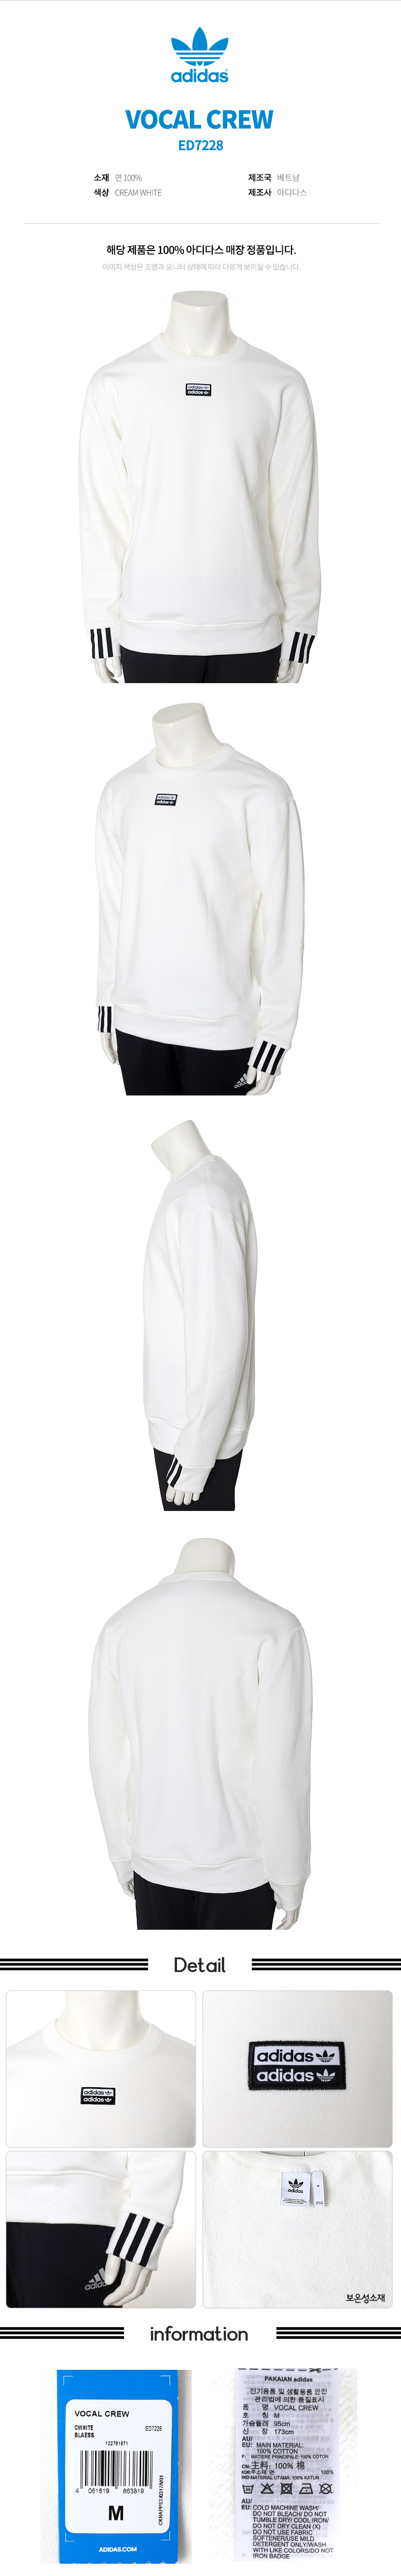do_not_bleach: (260, 2482, 276, 2495)
do_not_dry_clean: (319, 2482, 334, 2495)
